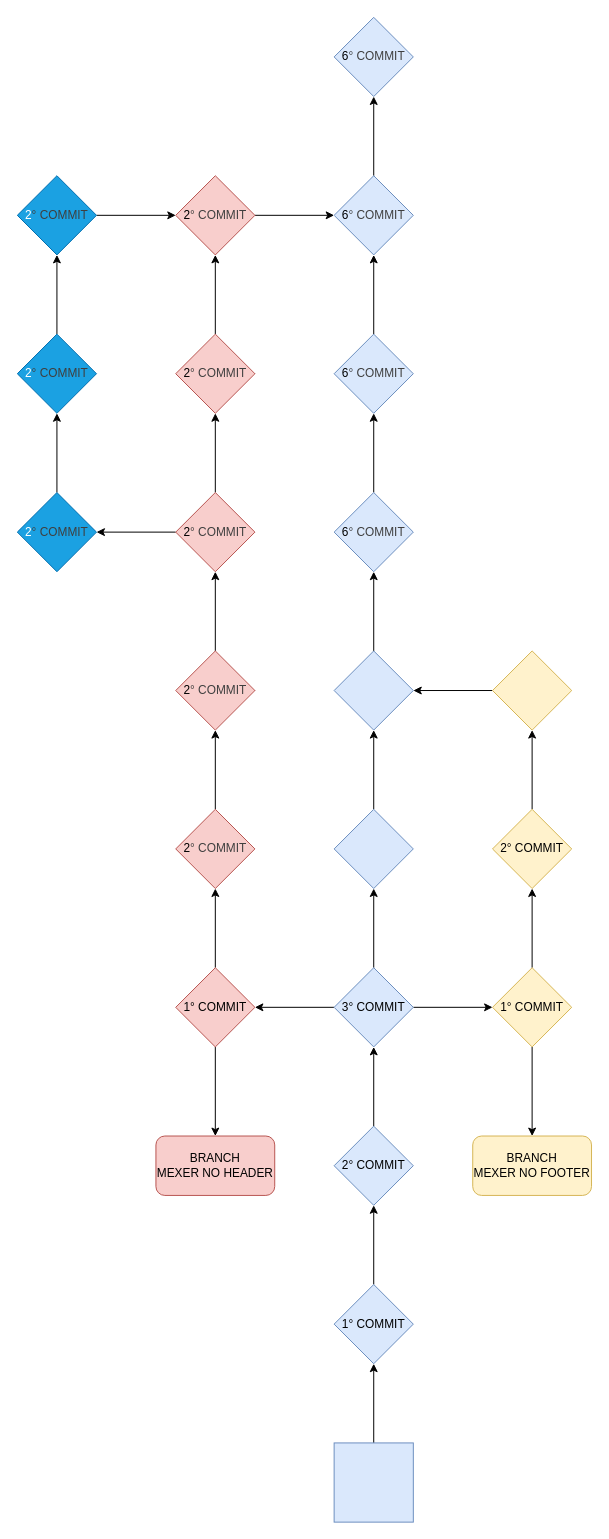
Some shapes in this 609 by 1539 pixel diagram are drawn without their labels. Here are the shapes that lost their labels. From the top down, the centre of each, then its label:
At point (373, 690): "5° COMMIT".
At point (532, 690): "3 ° COMMIT".
At point (373, 848): "4° COMMIT".
At point (373, 1482): "BRANCH MAIN".
